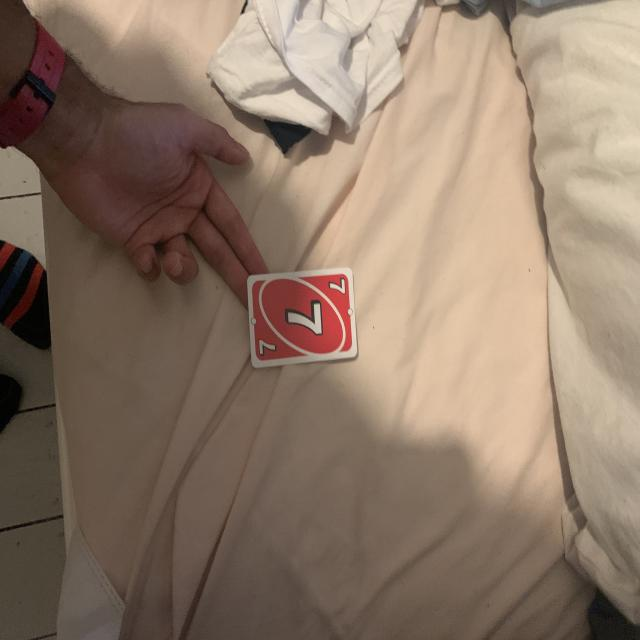lred-7: (325, 275, 348, 298)
